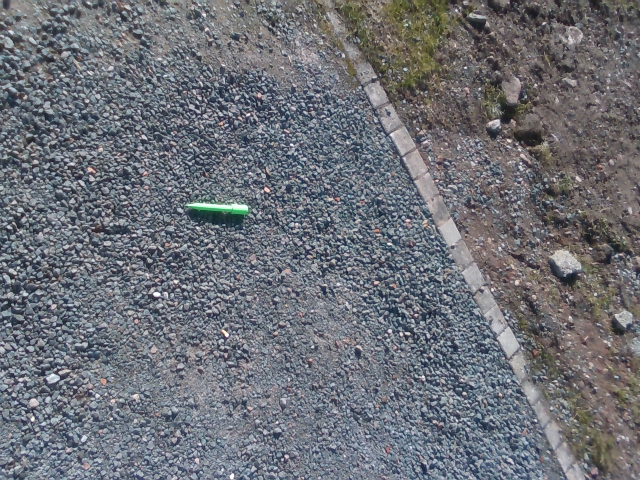Probe: (181, 198, 255, 218)
